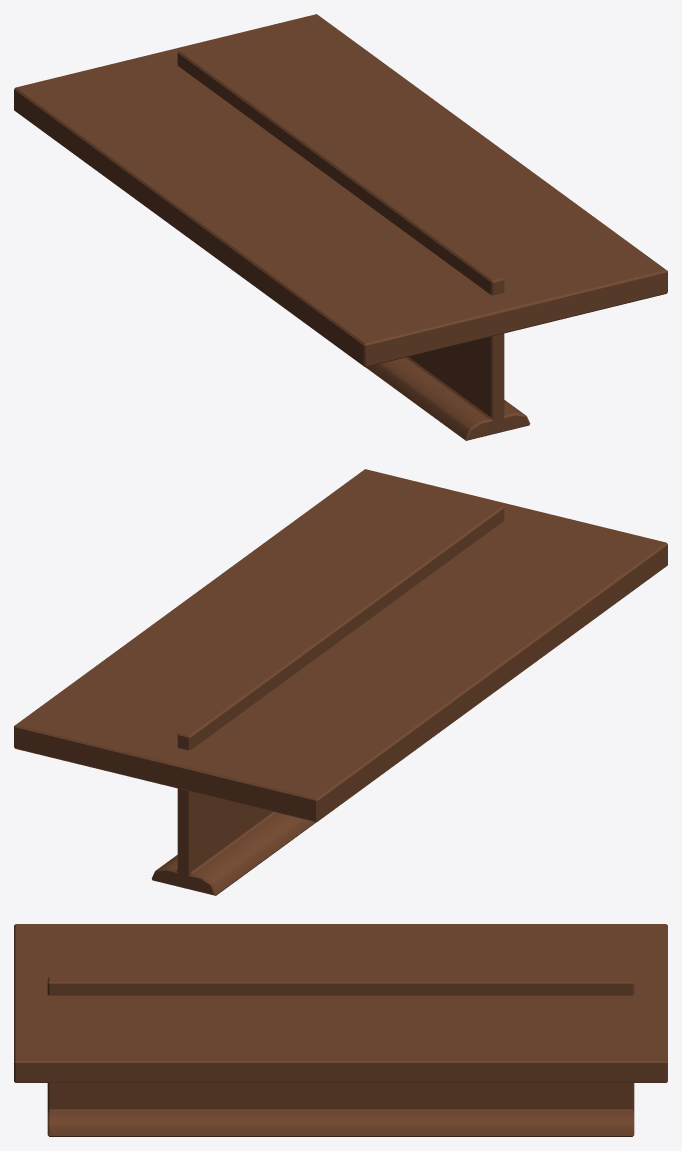
Rendered from Folding Table_Long.fbx.
The picture shows the model from 3 angles, top to bottom: view 1: azimuth 30°, elevation 25°; view 2: azimuth 150°, elevation 25°; view 3: azimuth 270°, elevation 25°; orthographic projection. The views are drawn at different scales.
Parts seen in each view (by area): view 1: Folding Table, Folding Table_Stand; view 2: Folding Table, Folding Table_Stand; view 3: Folding Table, Folding Table_Stand.
Part boxes in pixels (bbox=[...]): Folding Table: bbox=[14, 14, 667, 367]; Folding Table_Stand: bbox=[177, 48, 530, 440]; Folding Table: bbox=[14, 469, 667, 822]; Folding Table_Stand: bbox=[151, 503, 504, 895]; Folding Table: bbox=[14, 924, 667, 1082]; Folding Table_Stand: bbox=[47, 977, 634, 1136].
Size of the model in its own units: 200 by 96.72 by 400.
